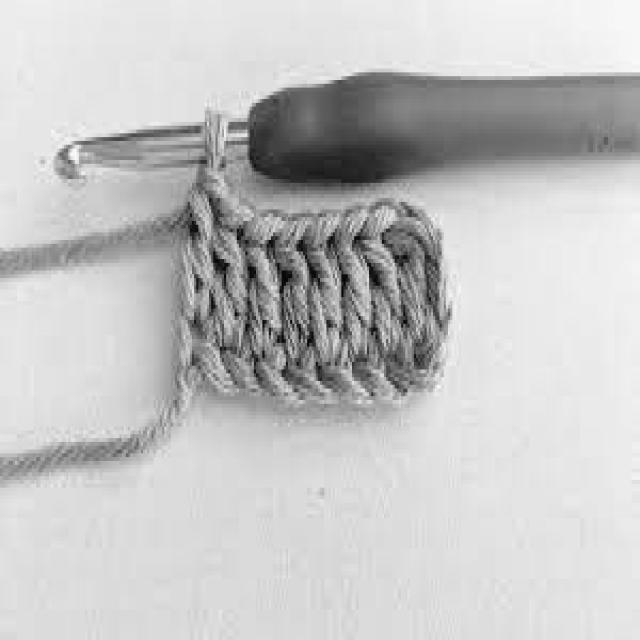ch: (351, 362, 412, 410), (191, 337, 240, 394), (224, 348, 275, 399), (285, 363, 345, 405), (319, 367, 380, 407), (256, 363, 311, 405), (388, 366, 442, 395)
dc: (386, 204, 430, 363), (269, 213, 315, 362), (240, 218, 284, 362), (212, 203, 255, 350), (360, 201, 398, 364), (337, 205, 374, 365), (307, 208, 343, 370), (185, 185, 213, 350)
